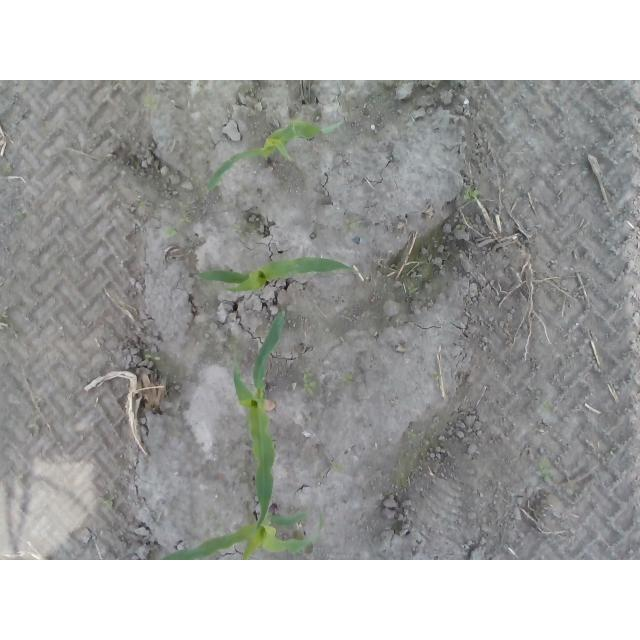Maize: (231, 310, 288, 558), (205, 121, 343, 189), (160, 504, 325, 557), (191, 257, 361, 296)
Weeds: (537, 457, 555, 484), (301, 369, 318, 395), (141, 95, 160, 109), (160, 226, 179, 239), (98, 497, 114, 511), (403, 281, 419, 294), (463, 191, 481, 202), (344, 217, 358, 231), (537, 402, 551, 415), (181, 211, 192, 225), (147, 352, 162, 362), (342, 376, 354, 385), (455, 224, 466, 232)
